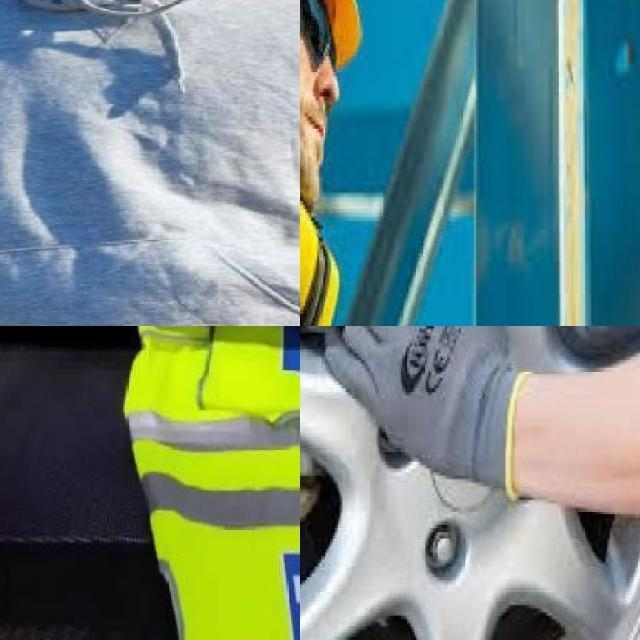apron: (323, 326, 515, 477)
